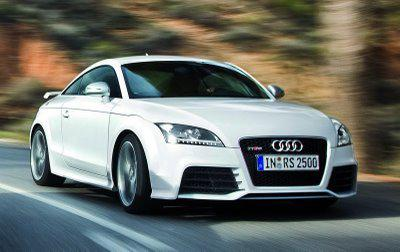Car: (20, 49, 377, 221)
